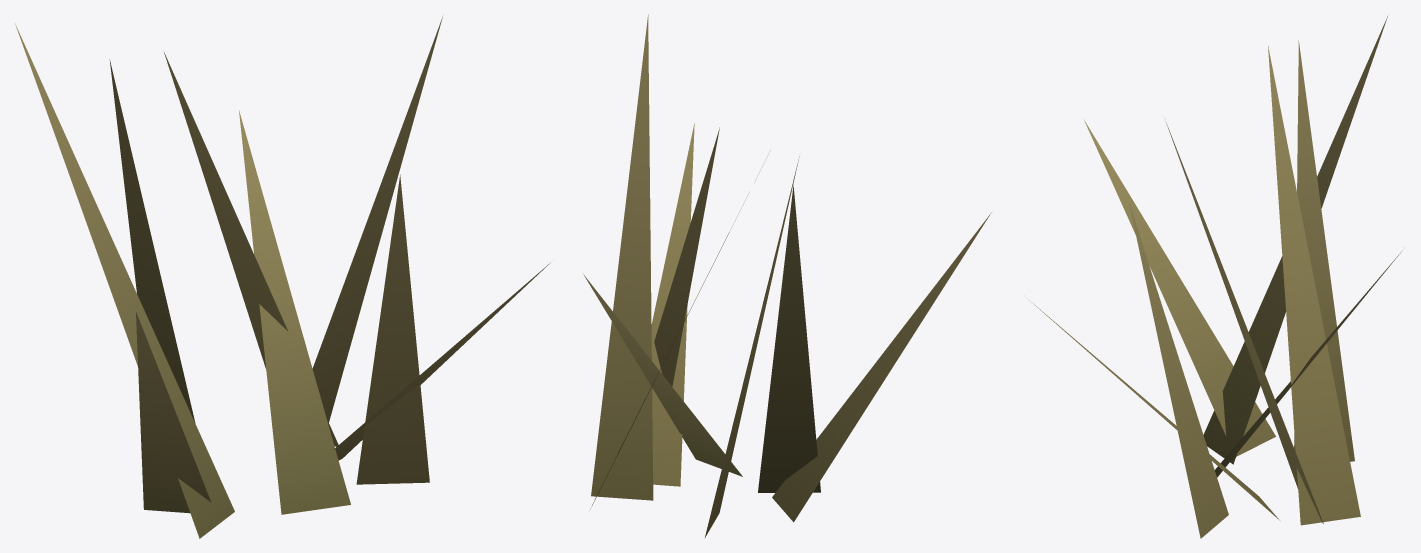
The model's file is env_grass_dry.glb.
3 views of the same model, side by side, from view 1: azimuth 30°, elevation 25°; view 2: azimuth 150°, elevation 25°; view 3: azimuth 270°, elevation 25° (orthographic). The views are drawn at different scales.
Parts seen in each view (by area): view 1: env_grass_dry; view 2: env_grass_dry; view 3: env_grass_dry.
Part boxes in pixels (<box>): env_grass_dry: <box>15,16,550,538</box>; env_grass_dry: <box>583,14,991,537</box>; env_grass_dry: <box>1029,16,1402,538</box>.
Bounding box in the file's own units: 0.42 × 0.5108 × 0.4239.
